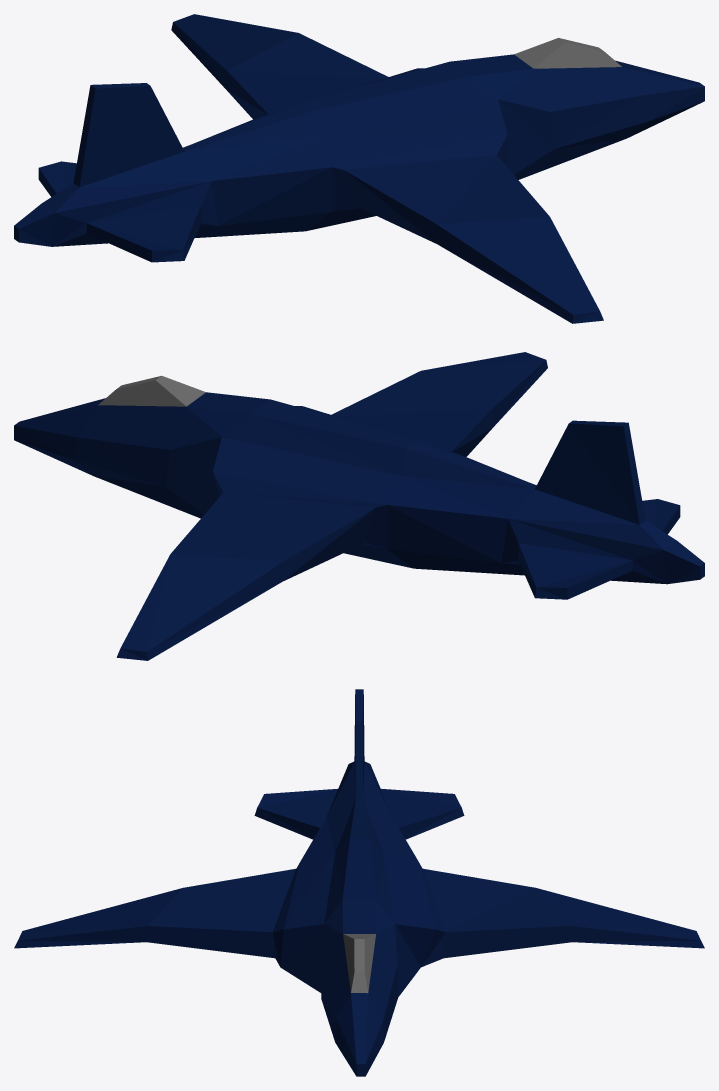
Rendered from fighter.obj.
3 renders of one model, top to bottom at view 1: azimuth 30°, elevation 25°; view 2: azimuth 150°, elevation 25°; view 3: azimuth 270°, elevation 25°, orthographic. The views are drawn at different scales.
Parts seen in each view (by area): view 1: Mesh_fighter; view 2: Mesh_fighter; view 3: Mesh_fighter.
Boxes of the visible parts, x1,y1,x2,y2 form: Mesh_fighter: [14, 14, 704, 323]; Mesh_fighter: [14, 352, 704, 660]; Mesh_fighter: [14, 689, 704, 1076].
Bounding box in the file's own units: 2.08 × 0.5198 × 2.16.
